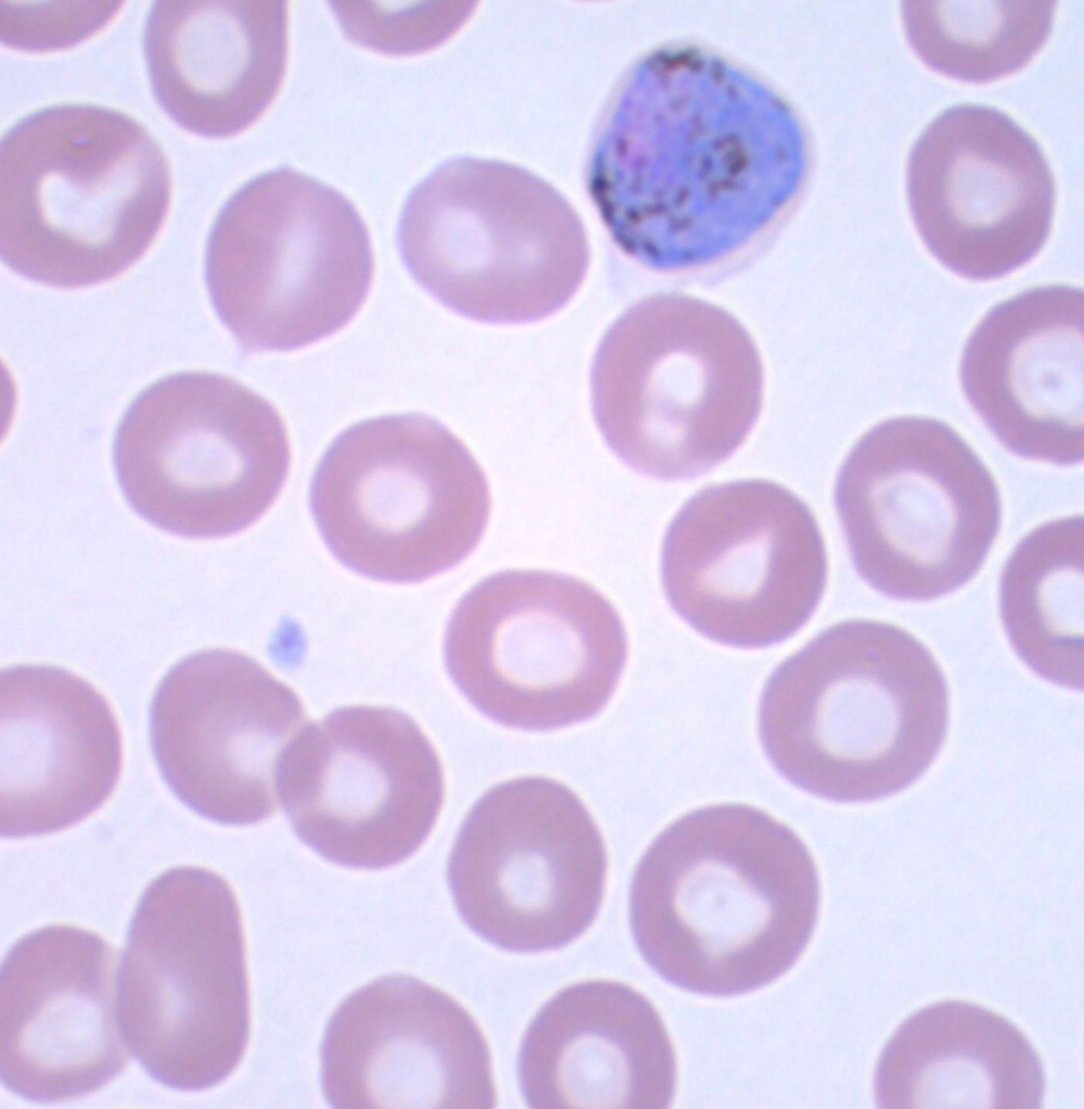Infected: (590, 44, 817, 284)
Uninfected: (628, 803, 818, 997), (759, 620, 945, 803), (200, 168, 381, 351), (587, 297, 767, 480), (108, 375, 297, 543), (397, 156, 587, 323), (440, 567, 626, 734), (0, 102, 166, 287), (312, 414, 490, 582), (117, 864, 251, 1086), (835, 417, 994, 597), (658, 479, 826, 646), (449, 777, 609, 951), (149, 649, 307, 825), (277, 706, 444, 868), (907, 102, 1053, 276), (323, 978, 493, 1107), (0, 926, 121, 1094), (520, 984, 671, 1108), (147, 1, 287, 132)
